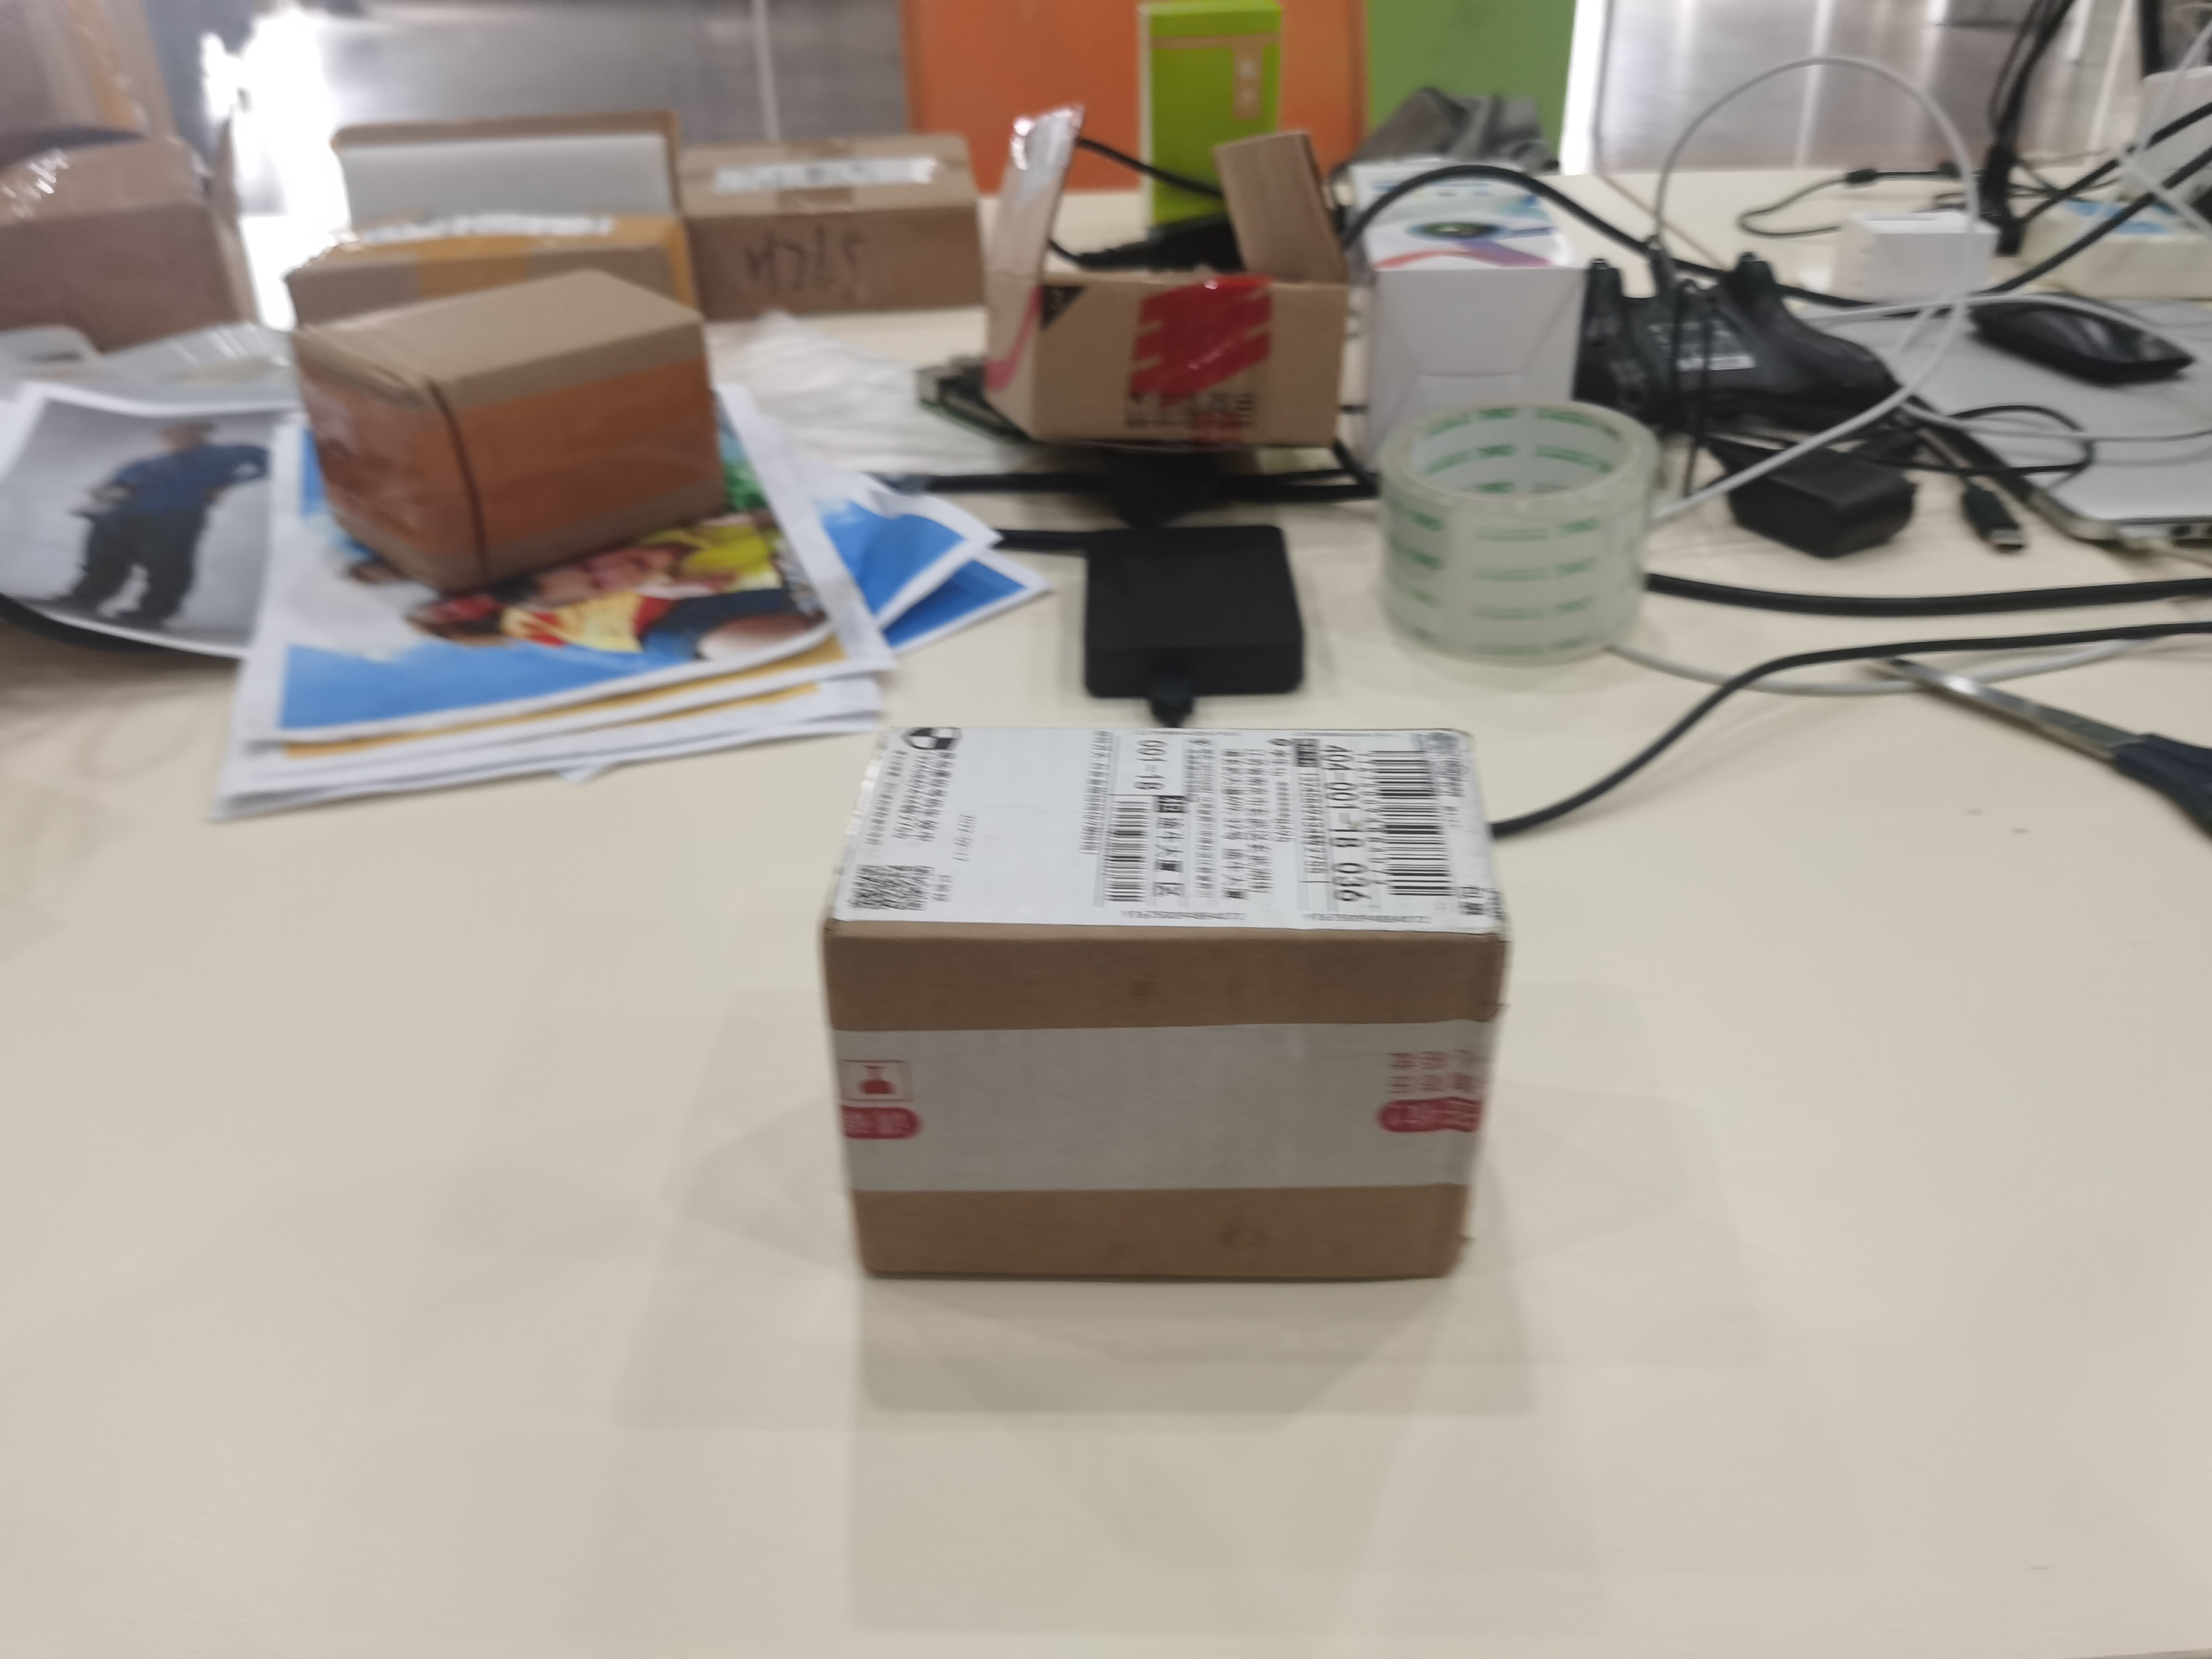box: (801, 699, 1527, 1330), (284, 263, 749, 598), (935, 110, 1371, 465)
